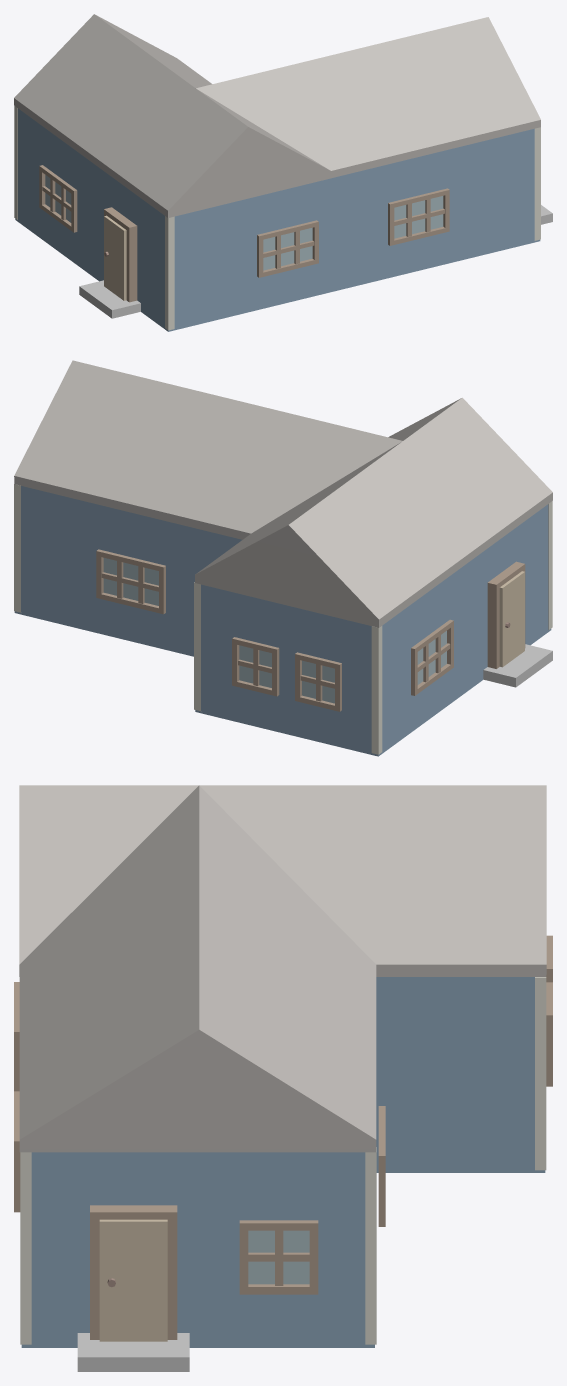
Rendered from house02.fbx.
3 renders of one model, top to bottom at view 1: azimuth 30°, elevation 25°; view 2: azimuth 150°, elevation 25°; view 3: azimuth 270°, elevation 25°, orthographic. The views are drawn at different scales.
Parts seen in each view (by area): view 1: house02, roof04, roof03, door9 (×3), pPlane2 (×3), door17 (×3), doorCentre, step, doorFrame, pillar05, pillar01, pillar04; view 2: house02, roof04, roof03, door9 (×2), door5 (×2), doorCentre, pPlane2 (×2), pPlane1 (×2), doorFrame, step, pillar04, door17 (×2) (+3 smaller); view 3: roof03, house02, roof04, doorCentre, doorFrame, step, door5 (×2), pPlane1, pillar03, pillar02, pillar01, door9 (×2) (+1 smaller).
Boxes of the visible parts, x1=… form: house02: x1=15, y1=108, x2=540, y2=331; roof04: x1=14, y1=14, x2=331, y2=217; roof03: x1=196, y1=17, x2=540, y2=178; door9 (×3): x1=39, y1=165, x2=449, y2=277; pPlane2 (×3): x1=45, y1=175, x2=443, y2=270; door17 (×3): x1=42, y1=178, x2=444, y2=268; doorCentre: x1=104, y1=215, x2=126, y2=300; step: x1=79, y1=280, x2=140, y2=318; doorFrame: x1=104, y1=207, x2=137, y2=302; pillar05: x1=165, y1=216, x2=174, y2=330; pillar01: x1=534, y1=127, x2=540, y2=240; pillar04: x1=14, y1=106, x2=17, y2=219; house02: x1=14, y1=486, x2=551, y2=756; roof04: x1=195, y1=397, x2=552, y2=627; roof03: x1=14, y1=360, x2=402, y2=539; door9 (×2): x1=96, y1=549, x2=453, y2=695; door5 (×2): x1=232, y1=637, x2=341, y2=711; doorCentre: x1=499, y1=571, x2=524, y2=667; pPlane2 (×2): x1=103, y1=558, x2=446, y2=684; pPlane1 (×2): x1=239, y1=645, x2=334, y2=703; doorFrame: x1=487, y1=561, x2=525, y2=668; step: x1=483, y1=644, x2=552, y2=687; pillar04: x1=371, y1=626, x2=382, y2=754; door17 (×2): x1=101, y1=561, x2=450, y2=682; roof03: x1=19, y1=785, x2=376, y2=1152; house02: x1=21, y1=977, x2=545, y2=1347; roof04: x1=19, y1=785, x2=546, y2=976; doorCentre: x1=99, y1=1219, x2=167, y2=1341; doorFrame: x1=90, y1=1205, x2=177, y2=1339; step: x1=77, y1=1333, x2=189, y2=1371; door5 (×2): x1=239, y1=982, x2=552, y2=1294; pPlane1: x1=248, y1=1230, x2=309, y2=1284; pillar03: x1=535, y1=977, x2=546, y2=1170; pillar02: x1=365, y1=1147, x2=376, y2=1344; pillar01: x1=20, y1=1152, x2=31, y2=1344; door9 (×2): x1=14, y1=1091, x2=385, y2=1226.
Size of the model in its own units: 8.31 by 3.44 by 5.28.
